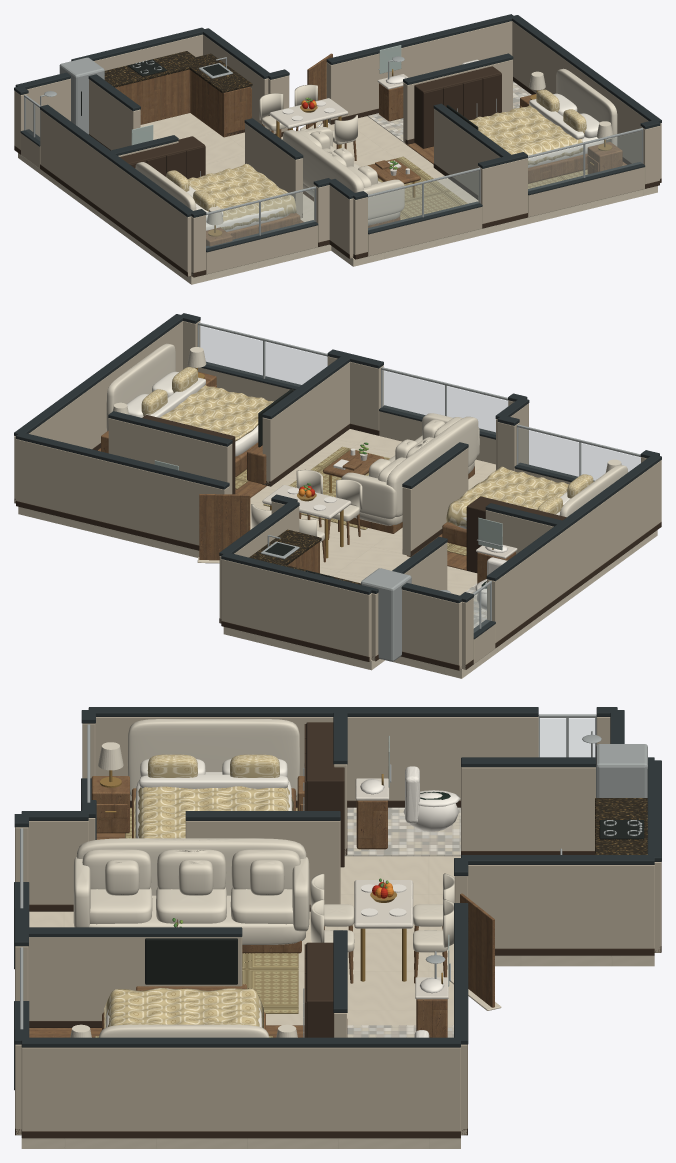
The model's file is aristo-07.glb.
3 views of the same model, one above another, from view 1: azimuth 30°, elevation 25°; view 2: azimuth 150°, elevation 25°; view 3: azimuth 270°, elevation 25° (orthographic). The views are drawn at different scales.
Visible parts, largest first — view 1: Apartment foundation, Ivory masonry.011, Ivory masonry.003, Ivory masonry.004, Cutaway window glazing.001, Cutaway window glazing, Soft jacquard duvet with folds.004, Cutaway window glazing.002, Soft jacquard duvet with folds.003, Ivory masonry.006, Ivory masonry.018, Window sill.001 (+62 smaller); view 2: Ivory masonry.003, Apartment foundation, Ivory masonry.011, Ivory masonry, Ivory masonry.018, Ivory masonry.017, Cutaway window glazing.001, Ivory masonry.004, Cutaway window glazing, Ivory masonry.019, Ivory masonry.013, Cutaway window glazing.002 (+45 smaller); view 3: Ivory masonry.004, Apartment foundation, Ivory masonry.001, Ivory masonry.011, Ivory masonry.015, Ivory masonry.018, Padded headboard.004, Soft jacquard duvet with folds.003, Soft jacquard duvet with folds.004, Charcoal wall cut.004, Ivory masonry.019, Charcoal wall cut.011 (+52 smaller).
Part boxes in pixels (x1,y1,x2,y2): Apartment foundation: (18,113,657,284); Ivory masonry.011: (40,110,191,276); Ivory masonry.003: (326,21,512,123); Ivory masonry.004: (512,21,661,178); Cutaway window glazing.001: (528,131,641,190); Cutaway window glazing: (368,171,479,229); Soft jacquard duvet with folds.004: (188,163,296,230); Cutaway window glazing.002: (206,189,314,247); Soft jacquard duvet with folds.003: (469,105,583,164); Ivory masonry.006: (478,158,527,223); Ivory masonry.018: (434,109,500,194); Window sill.001: (528,167,644,217); Ivory masonry.003: (16,439,229,545); Apartment foundation: (18,429,657,678); Ivory masonry.011: (487,460,661,642); Ivory masonry: (221,559,371,661); Ivory masonry.018: (262,362,349,485); Ivory masonry.017: (108,418,232,494); Cutaway window glazing.001: (199,326,327,386); Ivory masonry.004: (14,321,182,502); Cutaway window glazing: (382,370,507,434); Ivory masonry.019: (402,448,468,556); Ivory masonry.013: (402,589,461,669); Cutaway window glazing.002: (518,428,640,480); Ivory masonry.004: (21,1047,460,1131); Apartment foundation: (21,856,654,1148); Ivory masonry.001: (467,865,654,948); Ivory masonry.011: (95,717,538,800); Ivory masonry.015: (461,767,595,850); Ivory masonry.018: (28,937,242,1020); Padded headboard.004: (127,719,299,796); Soft jacquard duvet with folds.003: (104,988,263,1028); Soft jacquard duvet with folds.004: (134,786,293,838); Charcoal wall cut.004: (21,1037,460,1047); Ivory masonry.019: (185,820,340,904); Charcoal wall cut.011: (88,707,538,716).
Size of the model in its own units: 8.74 by 1.37 by 7.11.
Materials: 24 (6 with a texture image).
